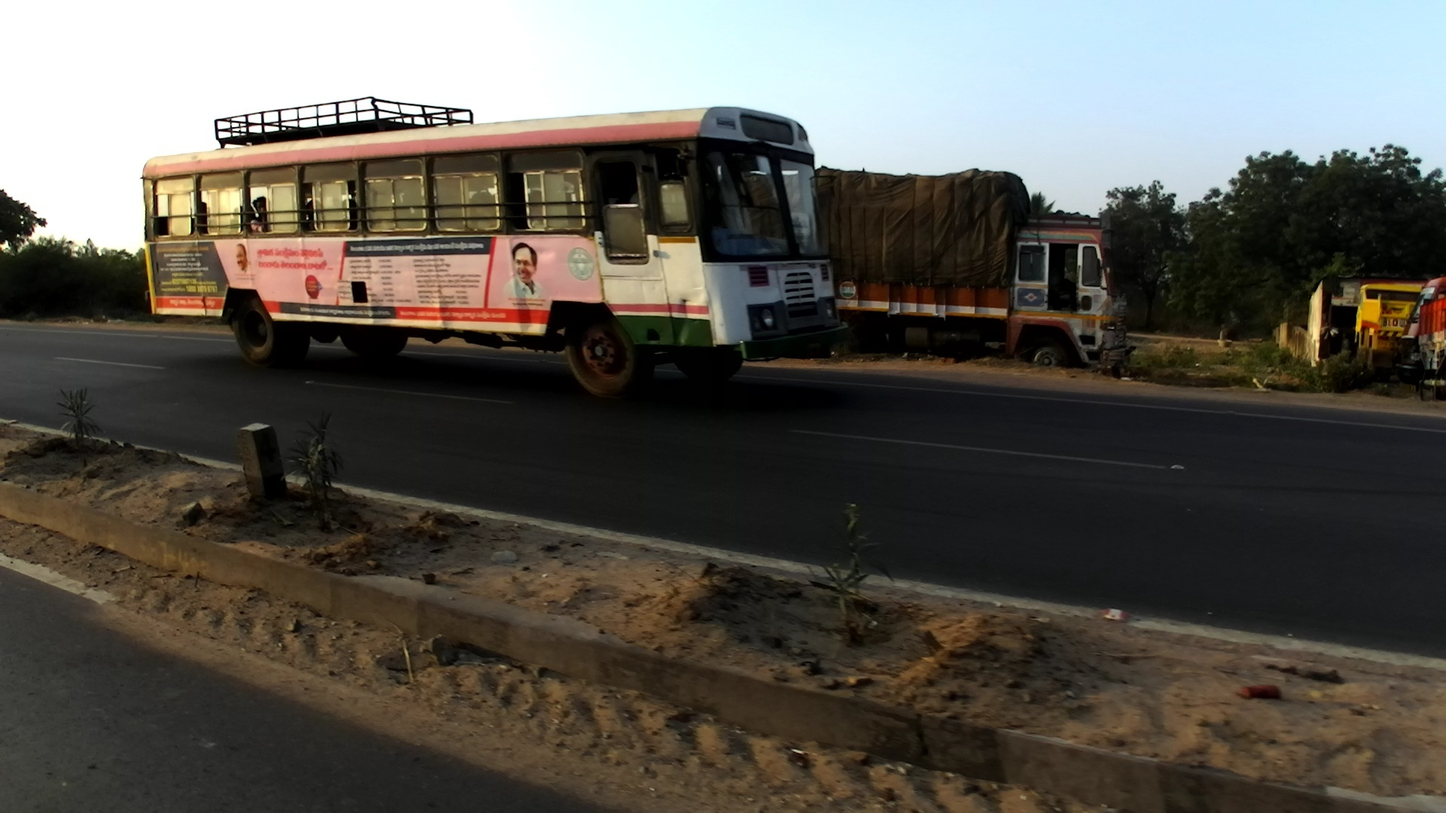bus: (141, 96, 850, 403)
truck: (804, 166, 1133, 379), (1350, 281, 1432, 386)
vehicle fallback: (1408, 275, 1446, 395)
